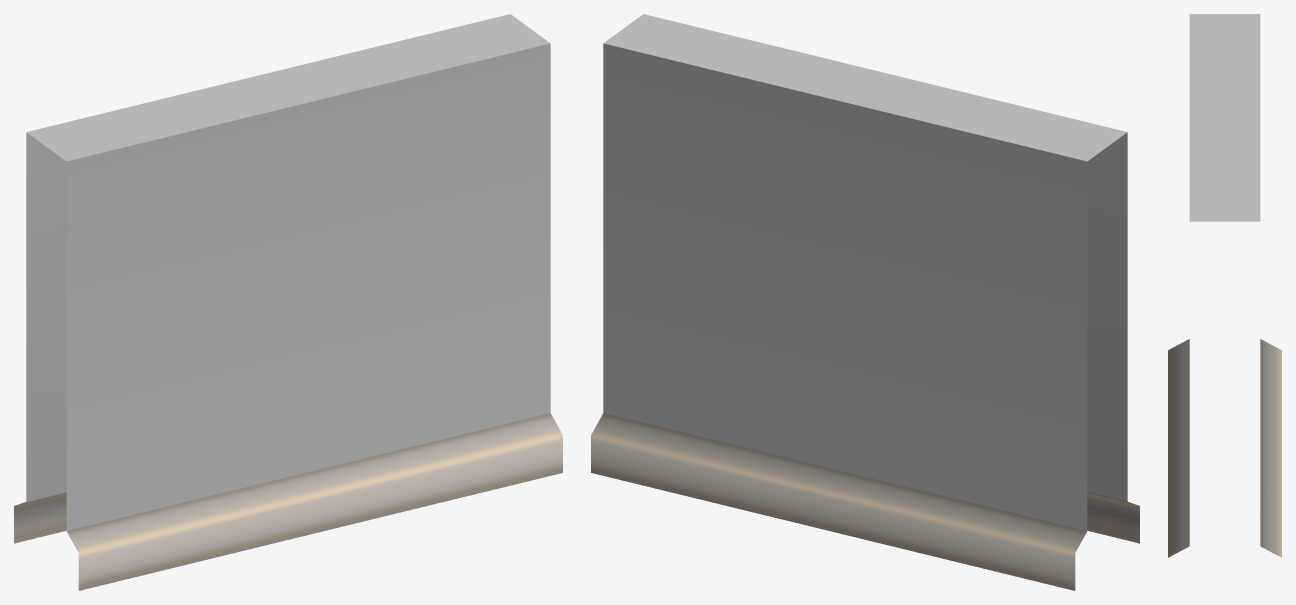
File: Wide wall test.fbx
3 renders of one model, left to right at view 1: azimuth 30°, elevation 25°; view 2: azimuth 150°, elevation 25°; view 3: azimuth 270°, elevation 25°, orthographic. The views are drawn at different scales.
Parts seen in each view (by area): view 1: pCube10; view 2: pCube10; view 3: pCube10.
Part boxes in pixels (x1,y1,x2,y2): pCube10: (14,14,562,590); pCube10: (591,14,1139,590); pCube10: (1168,14,1281,557).
Size of the model in its own units: 4 by 3.32 by 0.9265.
